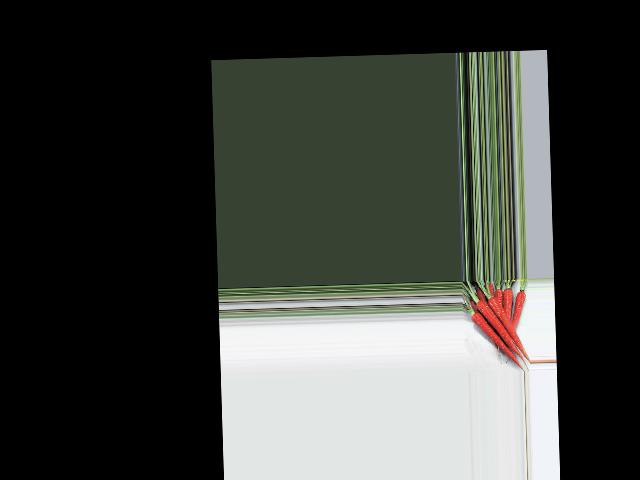carrot: (509, 289, 528, 331)
